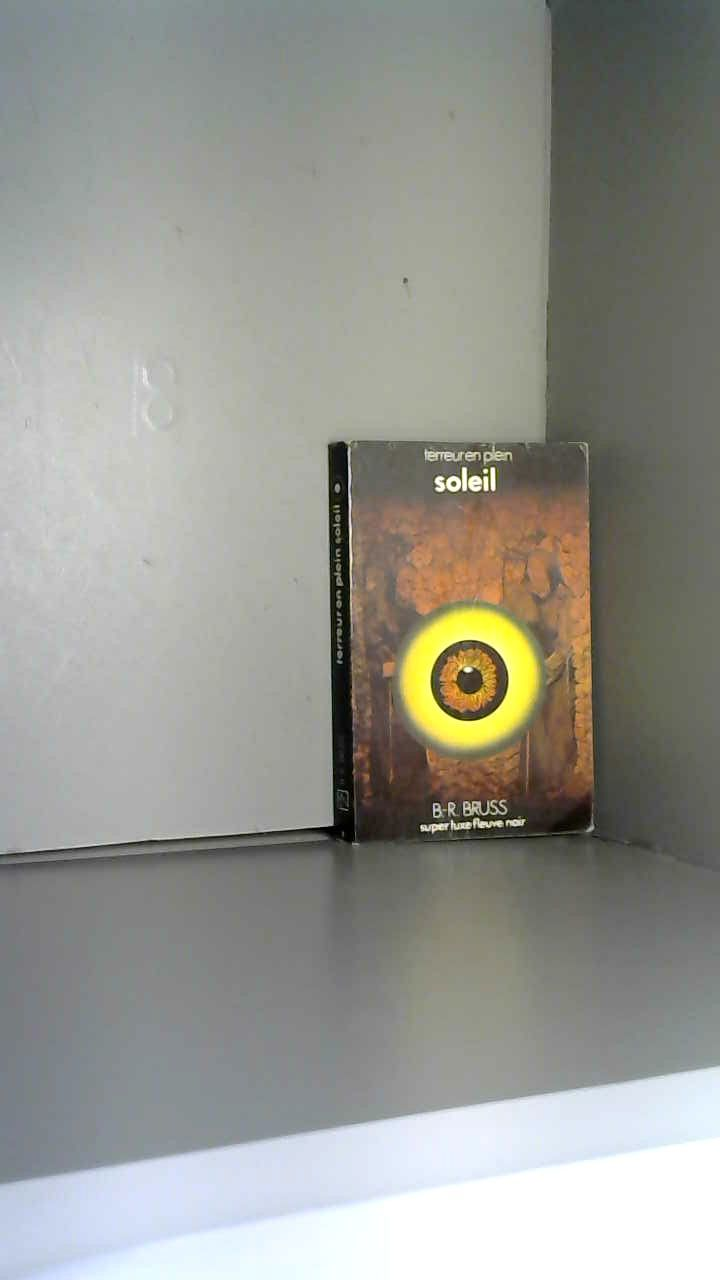book: (309, 419, 609, 863)
